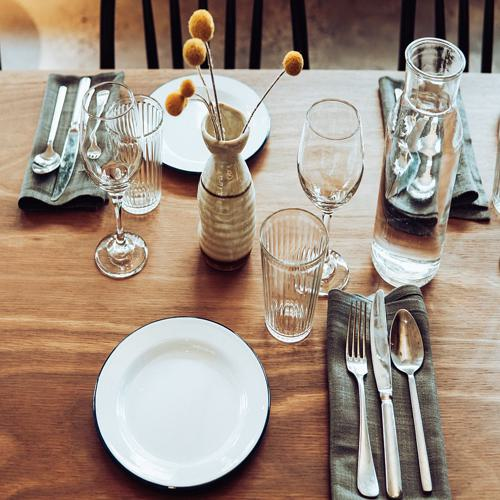copa: (77, 82, 155, 279), (298, 98, 357, 296)
vaso: (257, 203, 321, 343), (104, 96, 166, 216)
